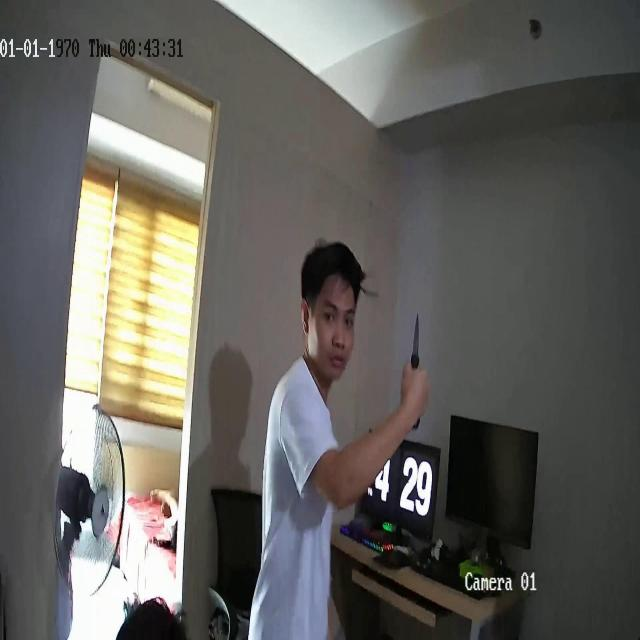scissor: (411, 312, 421, 431)
